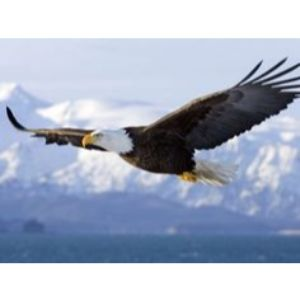eagle: (1, 53, 299, 193)
